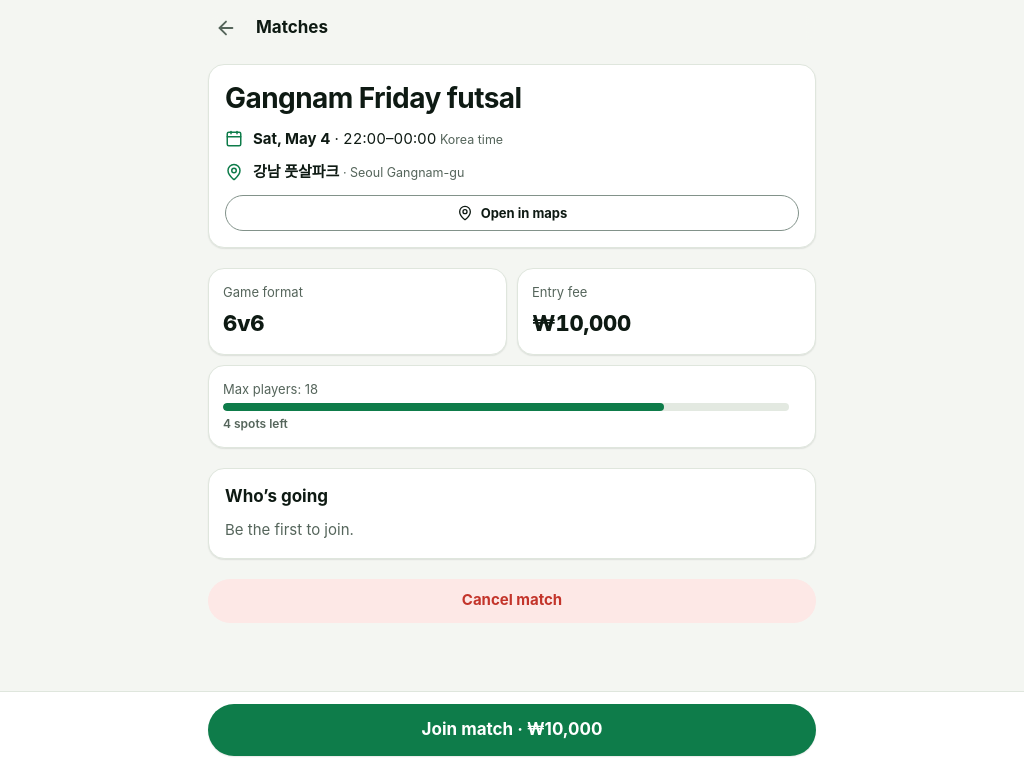
it: cancelling from the match page › shows the localized reason when the server refuses
Click the button "Cancel match".
click(512, 601)  # box [208,579,816,623]
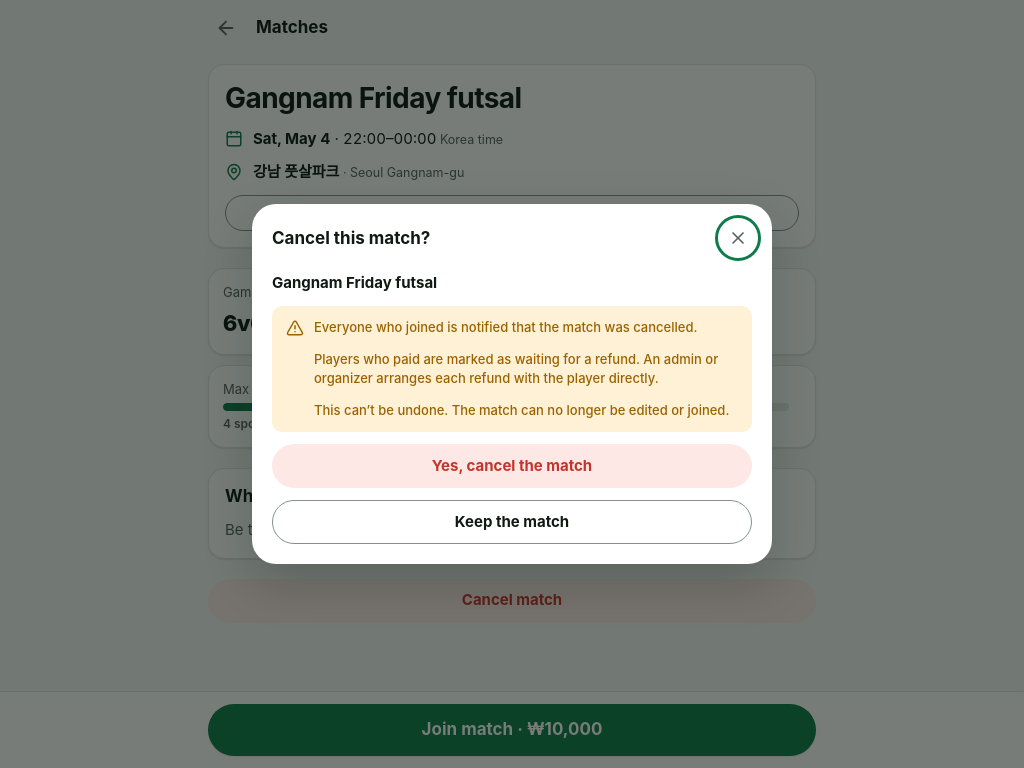
Click the button "Yes, cancel the match".
click(512, 466)  # box [272,444,752,488]
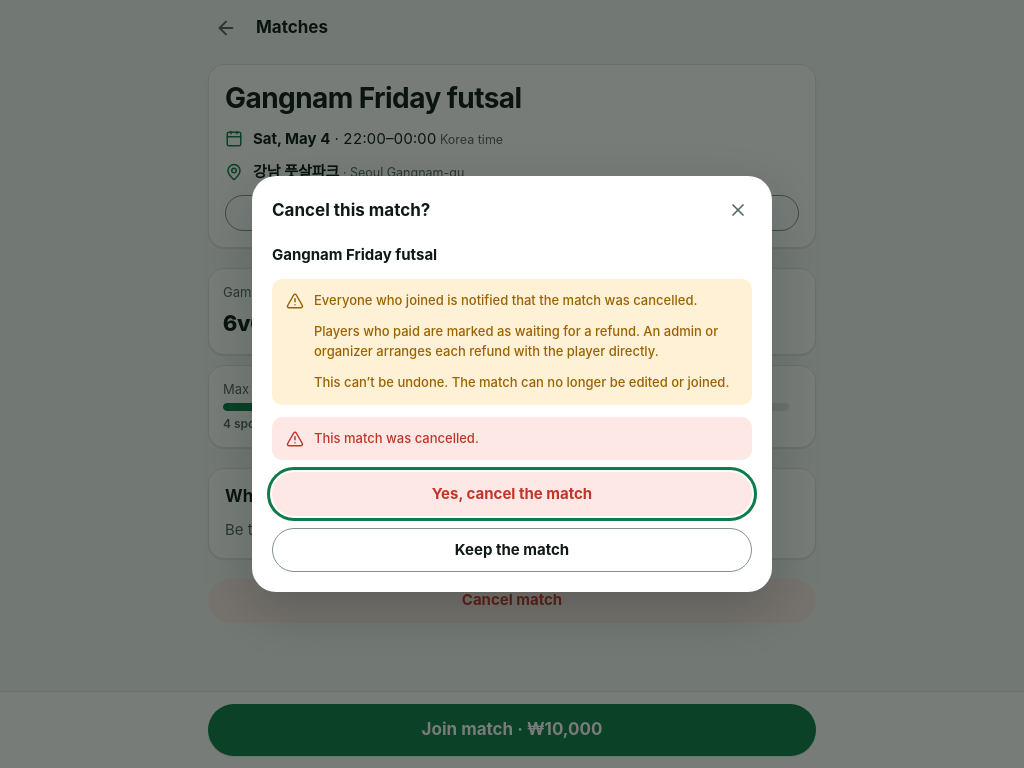
Check: the text "This match was cancelled." is shown, box [314,428,479,448]
